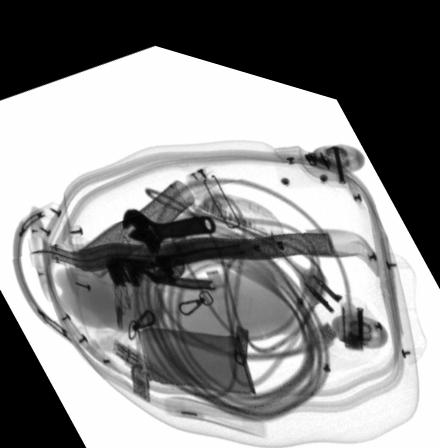Pliers: (105, 235, 217, 279)
Wrench: (122, 201, 216, 239)
